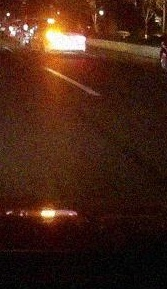L_light: (45, 34, 58, 40)
R_light: (77, 35, 85, 40)
T_light: (63, 21, 70, 23)
night-left: (43, 20, 86, 55)
